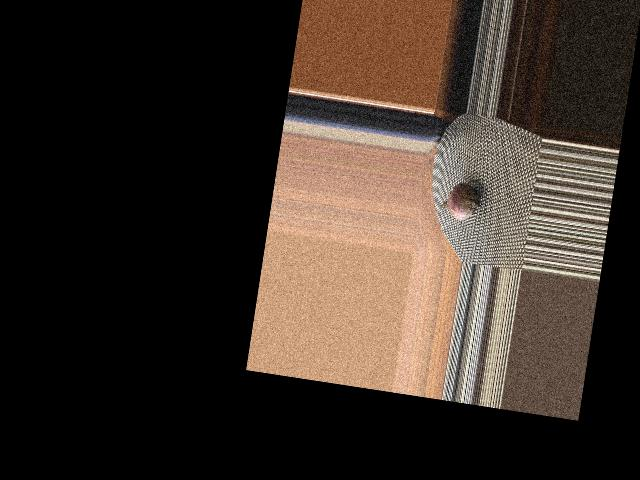beet: (433, 174, 485, 228)
